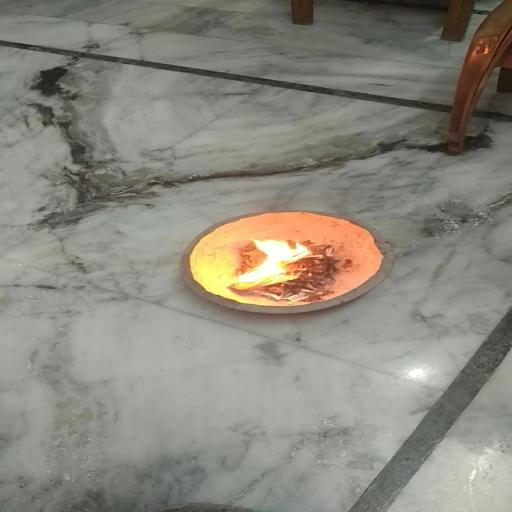fire: (239, 234, 319, 291)
